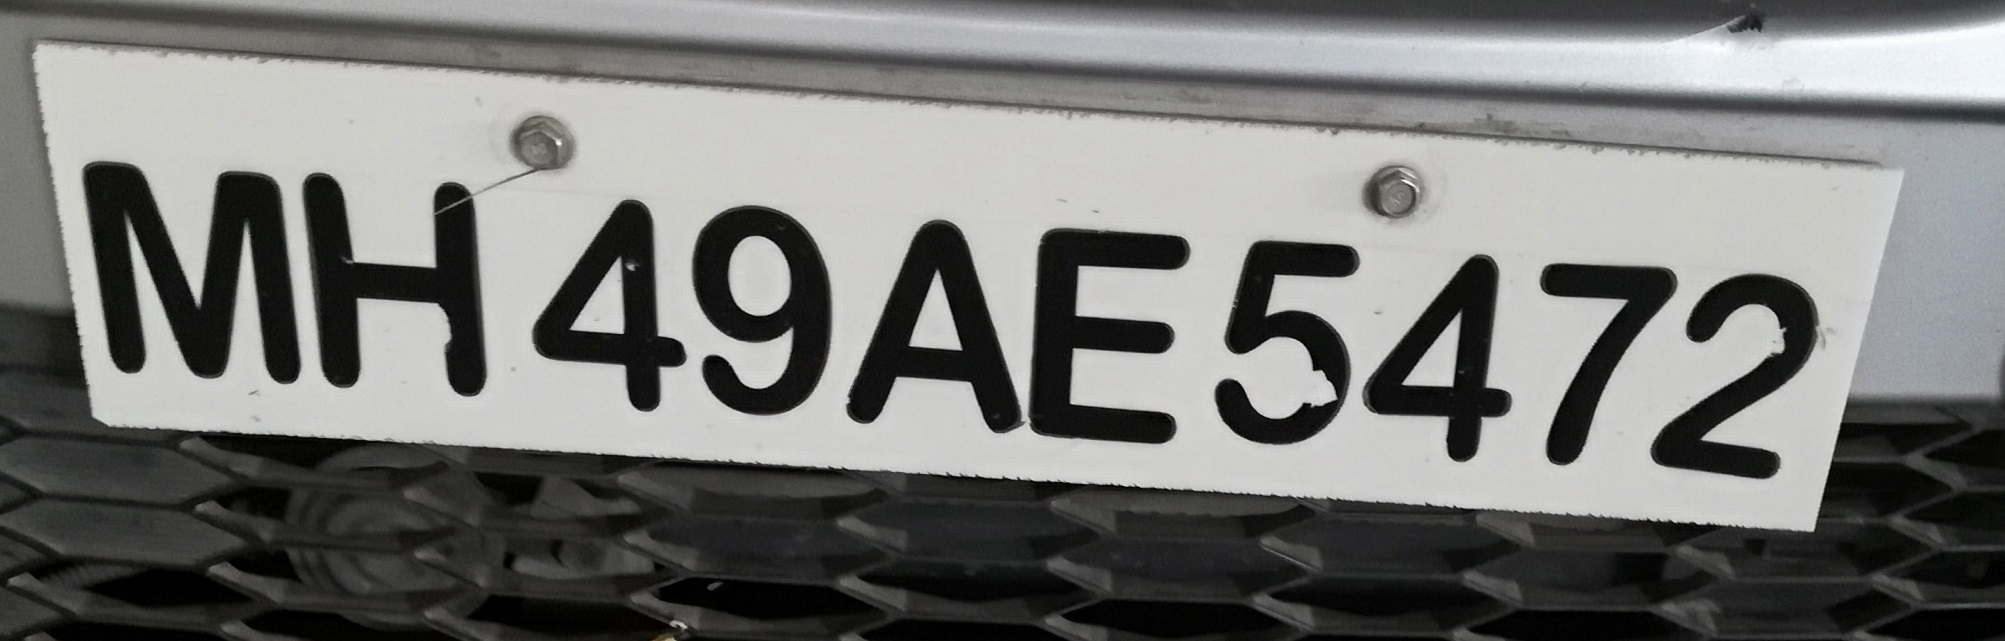numberplate: (25, 40, 1902, 540)
